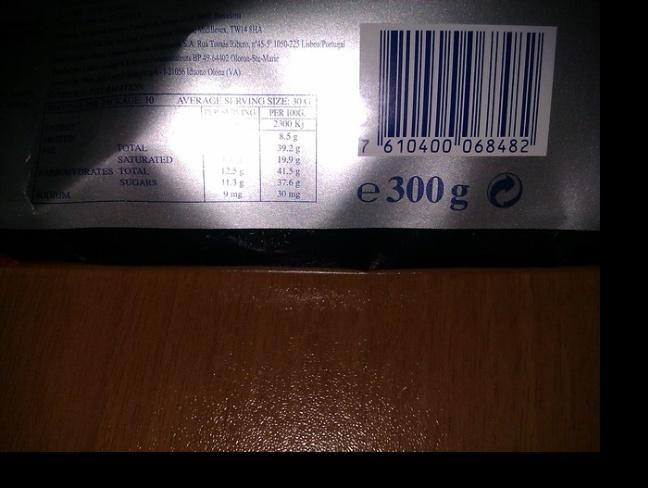Barcode: (358, 23, 559, 157)
